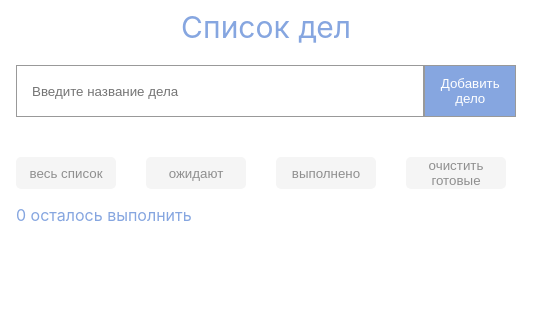
Test: example to-do app › фильтры
Type "test" into the field with placeholder "Введите название дела" at (221, 91), box left=16, top=65, right=425, bottom=117
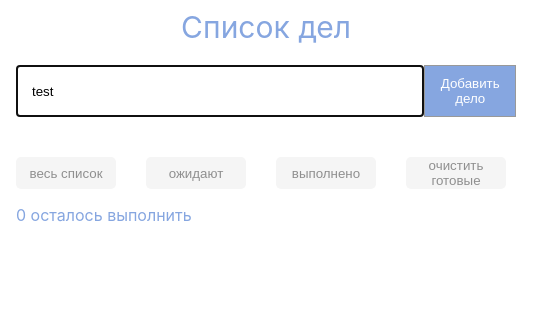
Click the button "Добавить дело" at (471, 91), box left=425, top=65, right=517, bottom=117
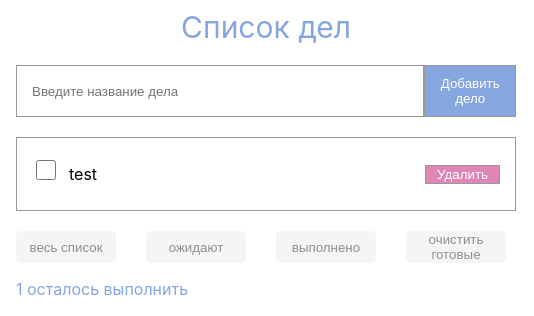
Expected: the list item "test Удалить" is shown, left=16, top=137, right=516, bottom=211
Expected: the text with class "count" reads "1 осталось выполнить", left=16, top=279, right=188, bottom=299
Click the checkbox at (46, 170), box left=36, top=160, right=56, bottom=180
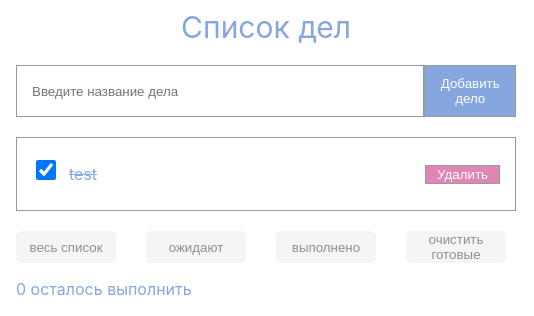
Expected: the text with class "count" reads "0 осталось выполнить", left=16, top=279, right=192, bottom=299
Click the button "ожидают" at (196, 247), box left=146, top=231, right=246, bottom=263
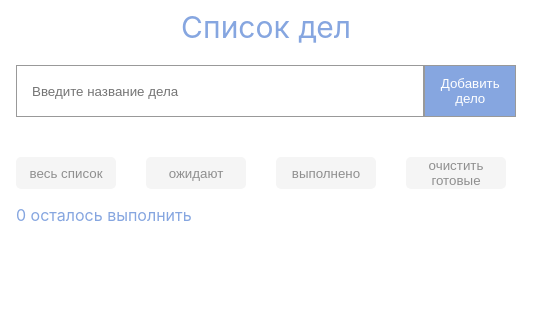
Click the button with class "ready" at (326, 173), box left=276, top=157, right=376, bottom=189
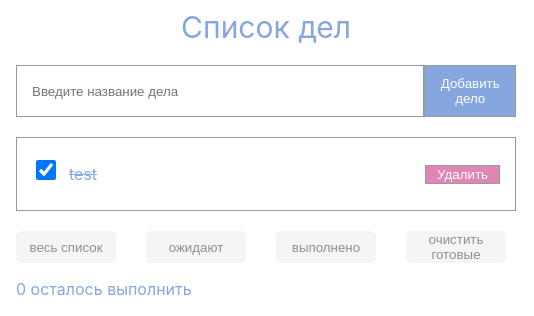
Expected: the list item "test Удалить" is shown, left=16, top=137, right=516, bottom=211
Click the button with class "clean" at (456, 247), box left=406, top=231, right=506, bottom=263
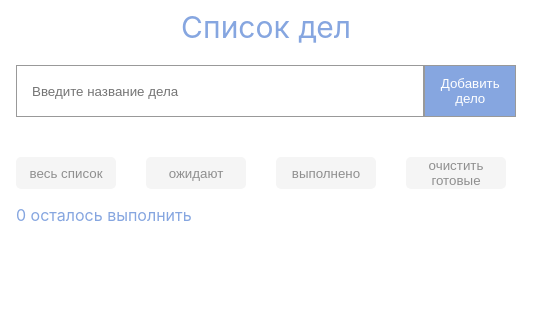
Expected: the list item "test Удалить" is gone
